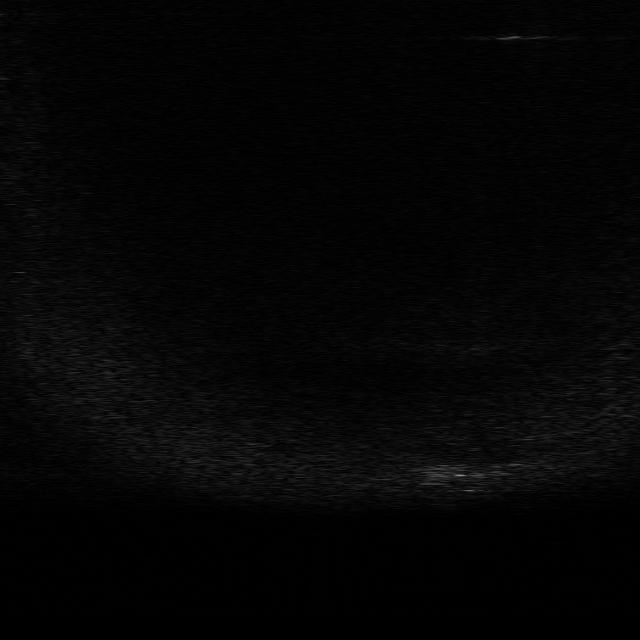plane: (413, 459, 538, 497)
